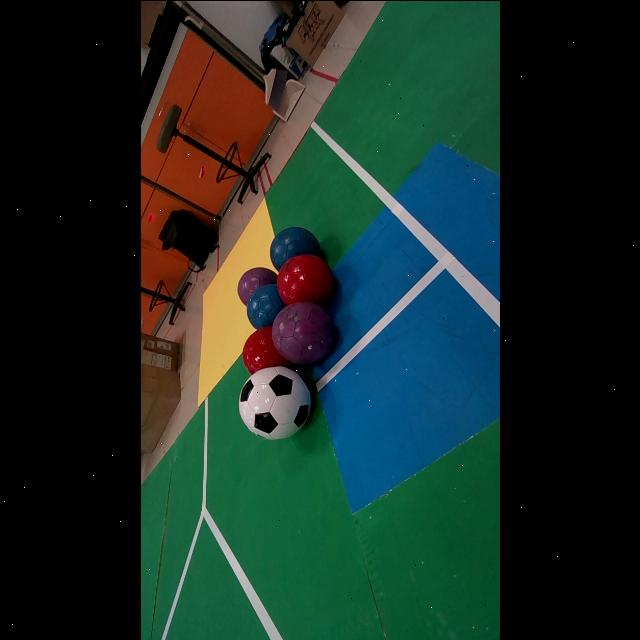B: (269, 226, 320, 269), (246, 284, 284, 328)
P: (271, 300, 335, 364), (237, 267, 276, 304)
R: (276, 253, 335, 305), (242, 326, 293, 373)
